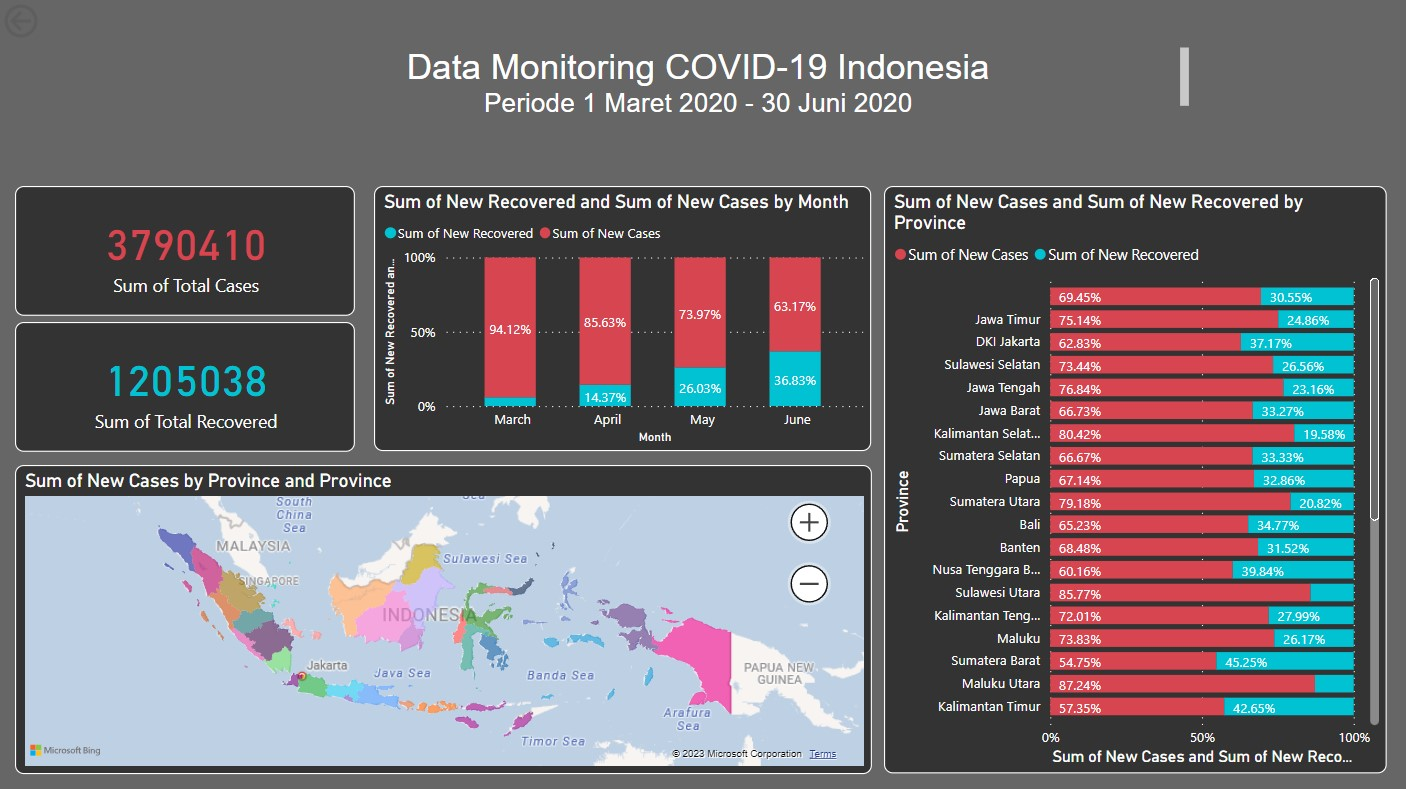

The page's visual inventory and layout, read from the dashboard file:
{"tool":"powerbi","page":{"name":"Filled Map","canvas":[1280,720],"ordinal":2},"visuals":[{"type":"textbox","box":[192.5,38.8,893.8,76.2],"z":0},{"type":"actionButton","box":[0,0,100,40],"z":1000},{"type":"filledMap","fields":{"Category":["covid_19_indonesia_time_series_all.Province"],"Series":["covid_19_indonesia_time_series_all.Province"]},"box":[14.4,423.3,778.9,281.1],"z":2000},{"type":"hundredPercentStackedBarChart","fields":{"Category":["covid_19_indonesia_time_series_all.Province"],"Y":["Sum(covid_19_indonesia_time_series_all.New Cases)","Sum(covid_19_indonesia_time_series_all.New Recovered)"]},"box":[804.4,170,456.7,534.4],"z":3000},{"type":"hundredPercentStackedColumnChart","fields":{"Y":["Sum(covid_19_indonesia_time_series_all.New Recovered)","Sum(covid_19_indonesia_time_series_all.New Cases)"],"Category":["covid_19_indonesia_time_series_all.Date.Variation.Date Hierarchy.Month"]},"box":[341.1,170,452.2,241.1],"z":4000},{"type":"card","fields":{"Values":["Sum(covid_19_indonesia_time_series_all.Total Recovered)"]},"box":[14.4,293.3,308.9,117.8],"z":5000},{"type":"card","fields":{"Values":["Sum(covid_19_indonesia_time_series_all.Total Cases)"]},"box":[14.4,170,308.9,117.8],"z":6000}]}

Visuals, with their boxes in screenshot pixels (x1, y1, x2, y2), scaled from the page's 1280x720 canvas onto the 1406x789 screenshot:
textbox: l=211, t=43, r=1193, b=126
actionButton: l=0, t=0, r=110, b=44
filledMap - covid_19_indonesia_time_series_all.Province x covid_19_indonesia_time_series_all.Province: l=16, t=464, r=871, b=772
hundredPercentStackedBarChart - covid_19_indonesia_time_series_all.Province x Sum(covid_19_indonesia_time_series_all.New Cases): l=884, t=186, r=1385, b=772
hundredPercentStackedColumnChart - Sum(covid_19_indonesia_time_series_all.New Recovered) x Sum(covid_19_indonesia_time_series_all.New Cases): l=375, t=186, r=871, b=450
card - Sum(covid_19_indonesia_time_series_all.Total Recovered): l=16, t=321, r=355, b=450
card - Sum(covid_19_indonesia_time_series_all.Total Cases): l=16, t=186, r=355, b=315
